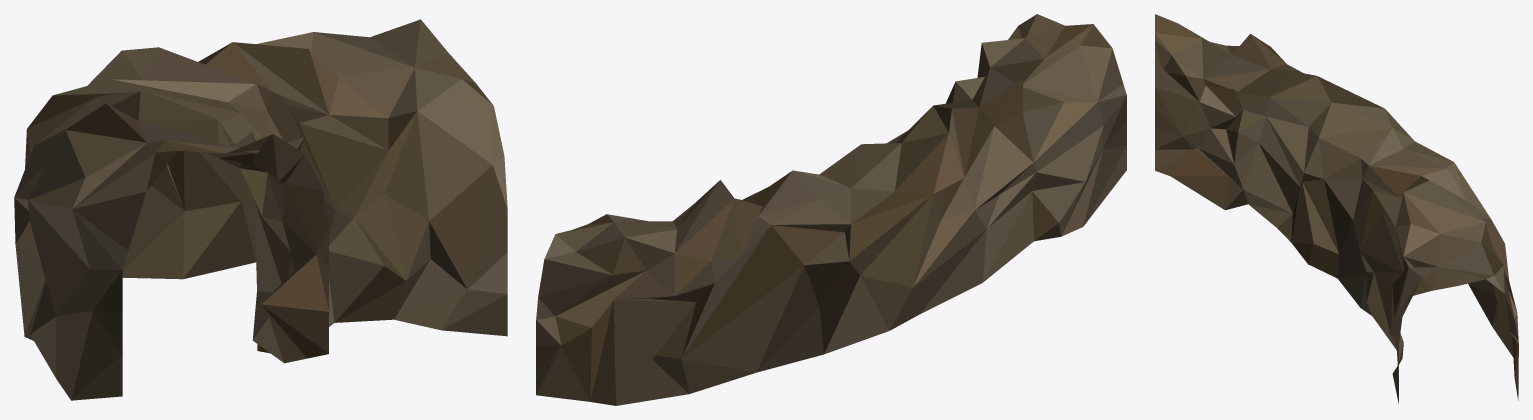
File: Cave-TurnSlope20mB.fbx
The picture shows the model from 3 angles, left to right: view 1: azimuth 30°, elevation 25°; view 2: azimuth 150°, elevation 25°; view 3: azimuth 270°, elevation 25°; orthographic projection. The views are drawn at different scales.
Visible parts, largest first — view 1: Cave-TurnSlope20mB; view 2: Cave-TurnSlope20mB; view 3: Cave-TurnSlope20mB.
Part boxes in pixels (x1=…): Cave-TurnSlope20mB: x1=14, y1=19, x2=507, y2=400; Cave-TurnSlope20mB: x1=536, y1=14, x2=1126, y2=405; Cave-TurnSlope20mB: x1=1155, y1=14, x2=1518, y2=403.
Bounding box in the file's own units: 1525 × 1166 × 1525.
